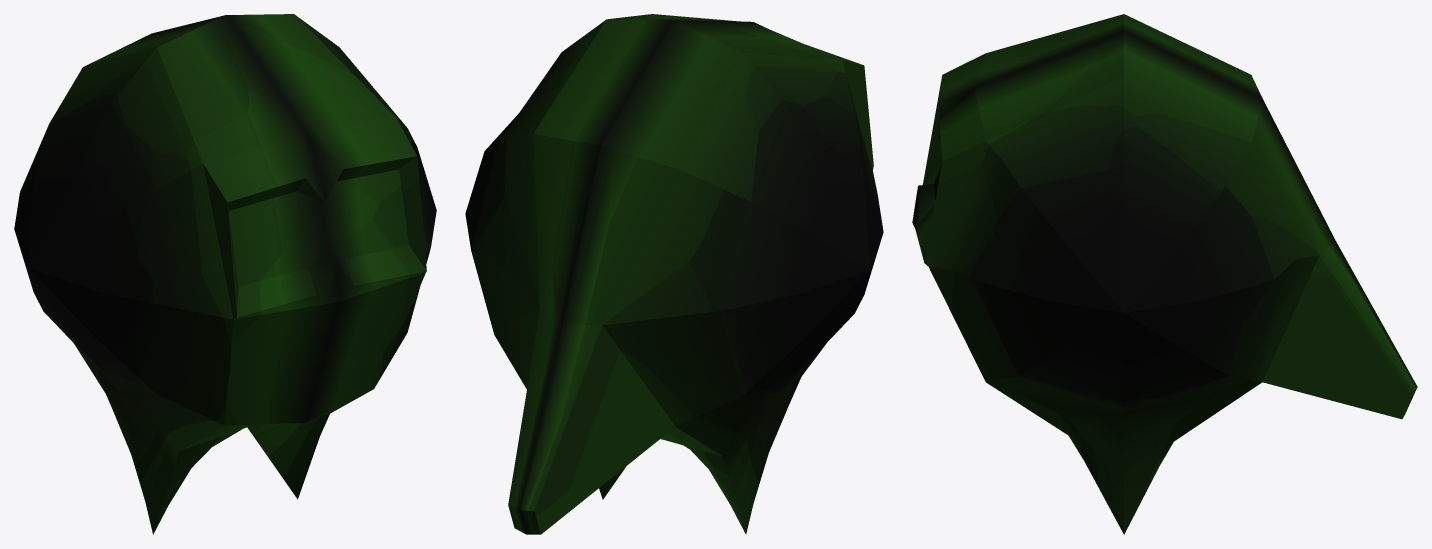
File: Dino.obj
3 views of the same model, side by side, from view 1: azimuth 30°, elevation 25°; view 2: azimuth 150°, elevation 25°; view 3: azimuth 270°, elevation 25° (orthographic). The views are drawn at different scales.
Parts seen in each view (by area): view 1: Tally; view 2: Tally; view 3: Tally.
Boxes of the visible parts, bbox=[...] form: Tally: bbox=[14, 14, 436, 534]; Tally: bbox=[465, 14, 883, 534]; Tally: bbox=[912, 14, 1417, 534].
Bounding box in the file's own units: 10.09 × 12.27 × 11.93.
